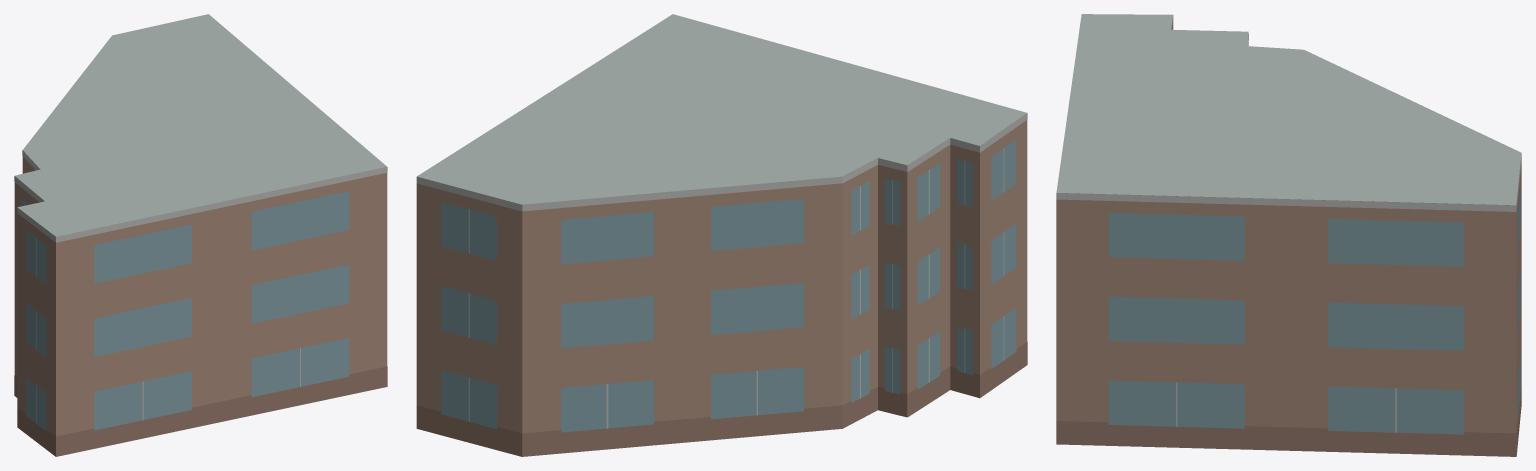
Rendered from survey-upis-32675102.glb.
3 views of the same model, side by side, from view 1: azimuth 30°, elevation 25°; view 2: azimuth 150°, elevation 25°; view 3: azimuth 270°, elevation 25° (orthographic). The views are drawn at different scales.
Visible parts, largest first — view 1: survey-upis-32675102.tmp; view 2: survey-upis-32675102.tmp; view 3: survey-upis-32675102.tmp.
Part boxes in pixels (x1=…): survey-upis-32675102.tmp: x1=14, y1=14, x2=387, y2=456; survey-upis-32675102.tmp: x1=416, y1=14, x2=1027, y2=456; survey-upis-32675102.tmp: x1=1056, y1=14, x2=1521, y2=456.
Bounding box in the file's own units: 14.93 × 9.15 × 15.34.
